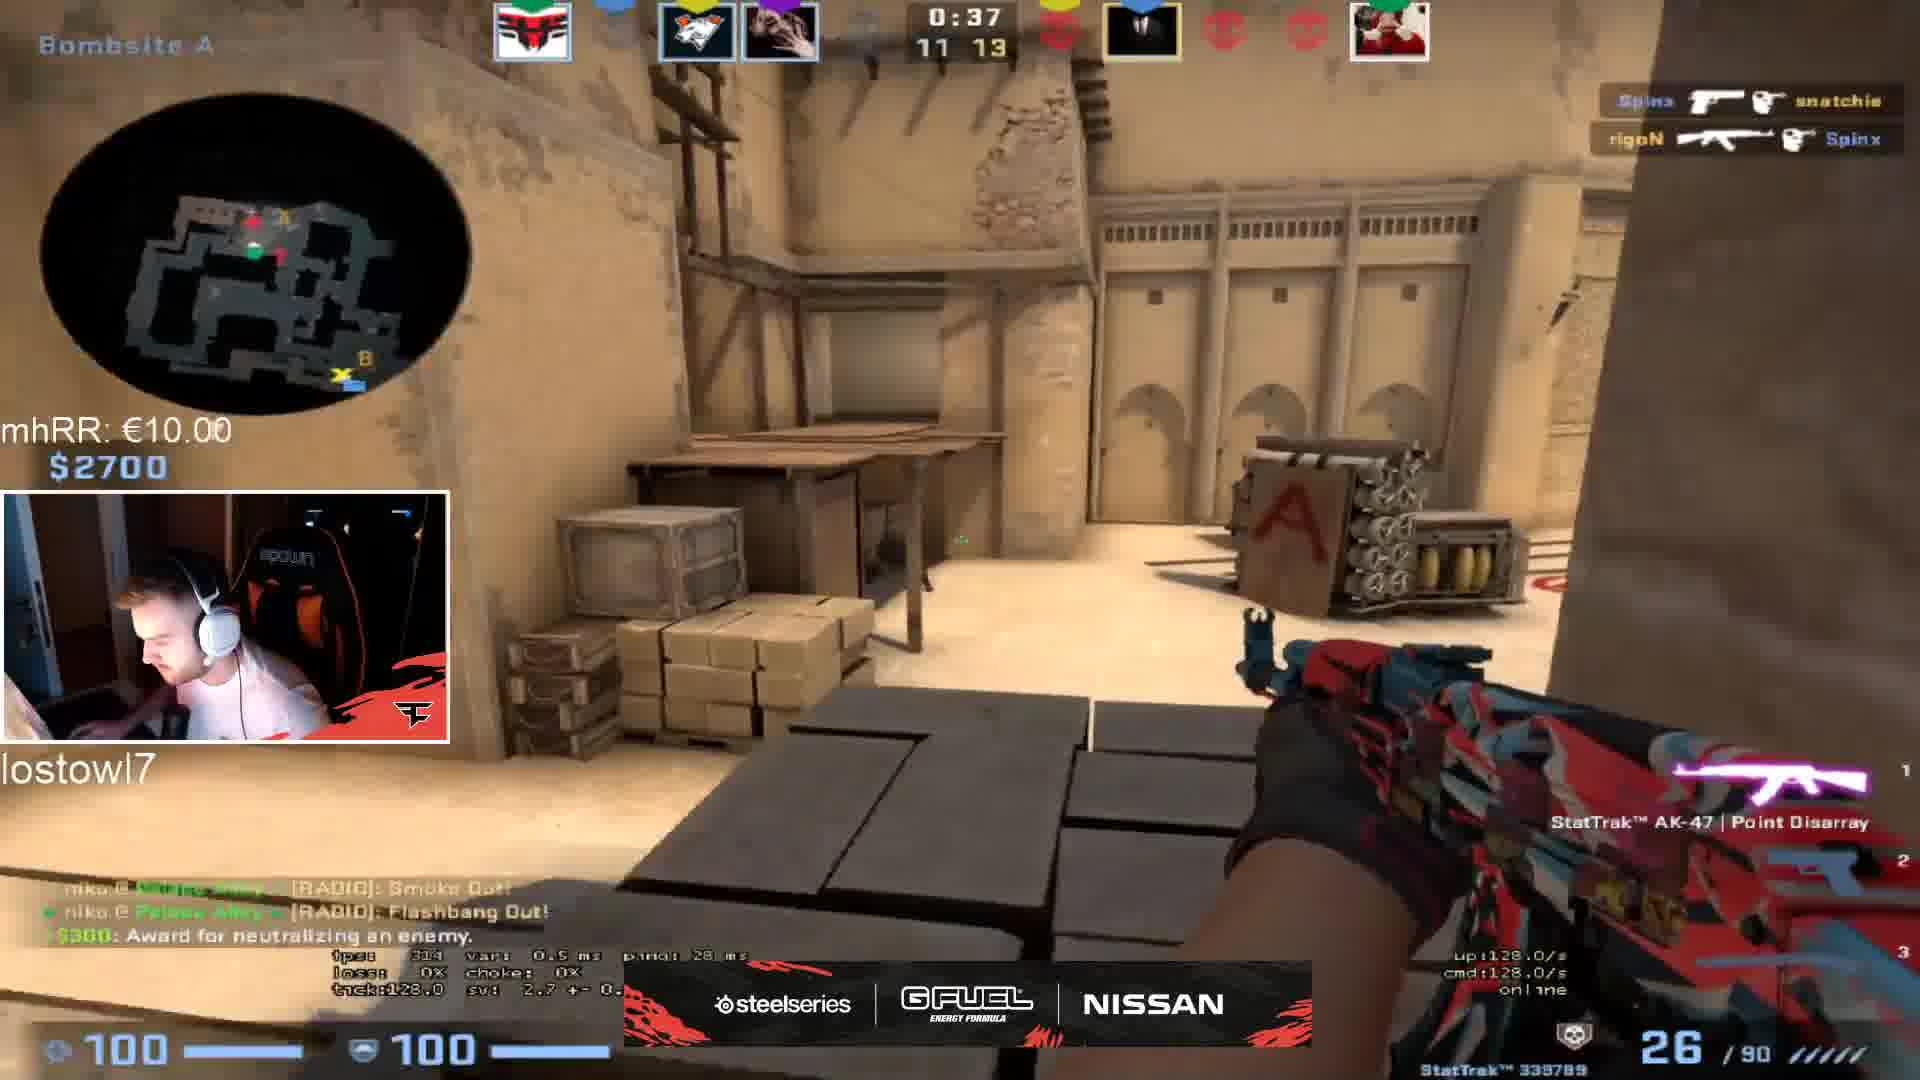enemy: (868, 520, 906, 589)
